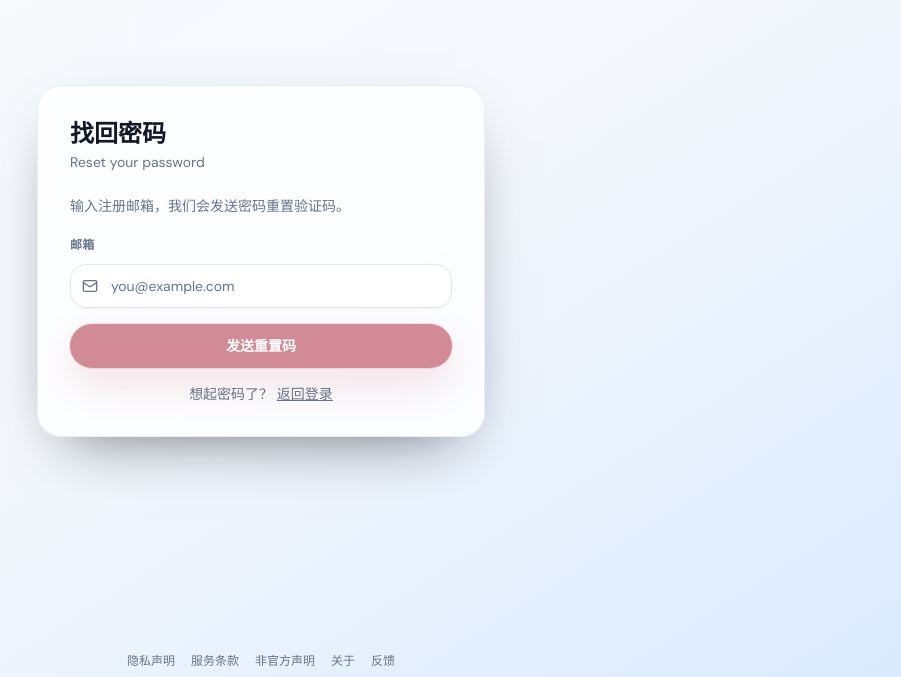
ForgotPasswordPage › requests a reset code then resets the password end to end
Type "user@example.com" into the field with placeholder "you@example.com" at (261, 286), box [70, 264, 452, 308]
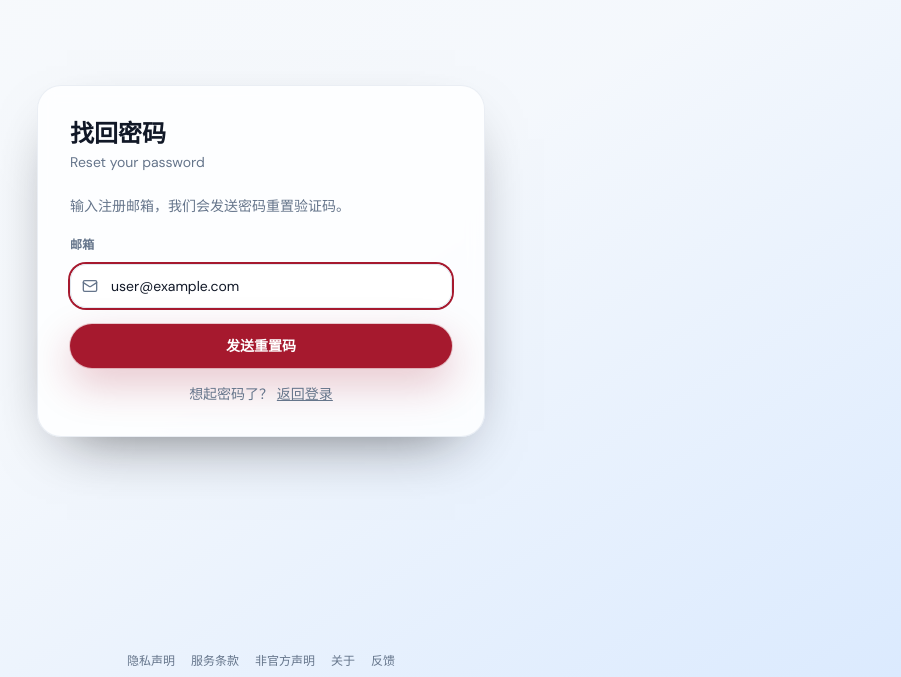
Click the button "发送重置码" at (261, 346), box [70, 324, 452, 368]
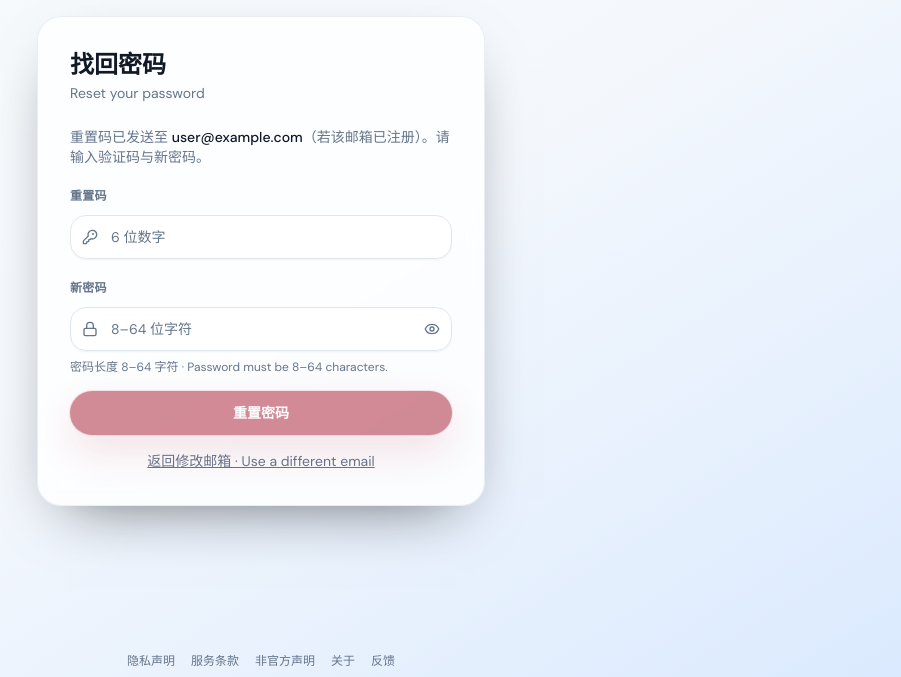
Check: the field with placeholder "6 位数字" is shown
Type "654321" into the field with placeholder "6 位数字" at (261, 237), box [70, 215, 452, 259]
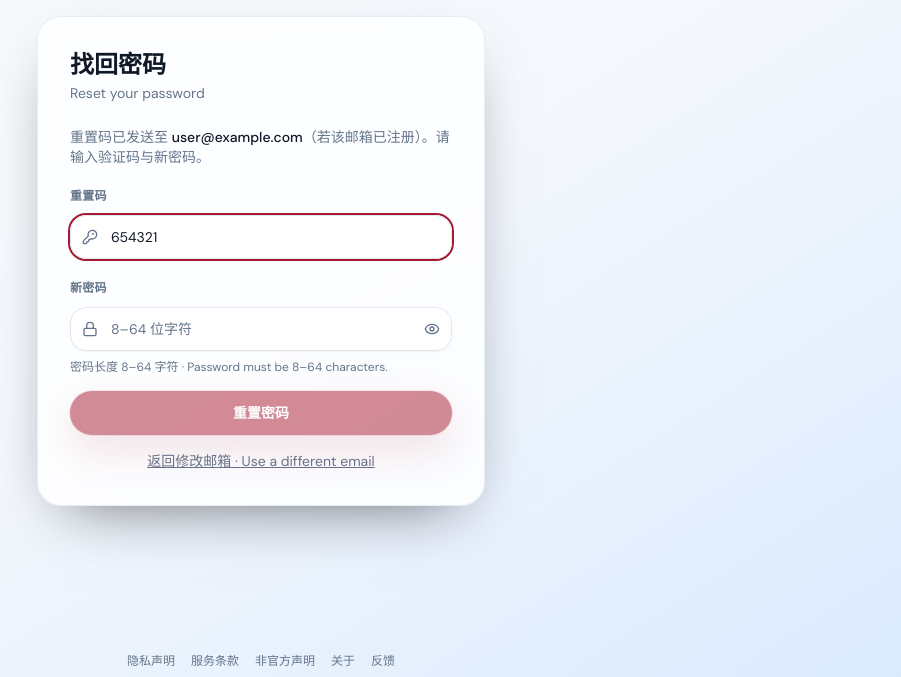
Type "newpassword8" into the password field with placeholder "8–64 位字符" at (261, 329), box [70, 307, 452, 351]
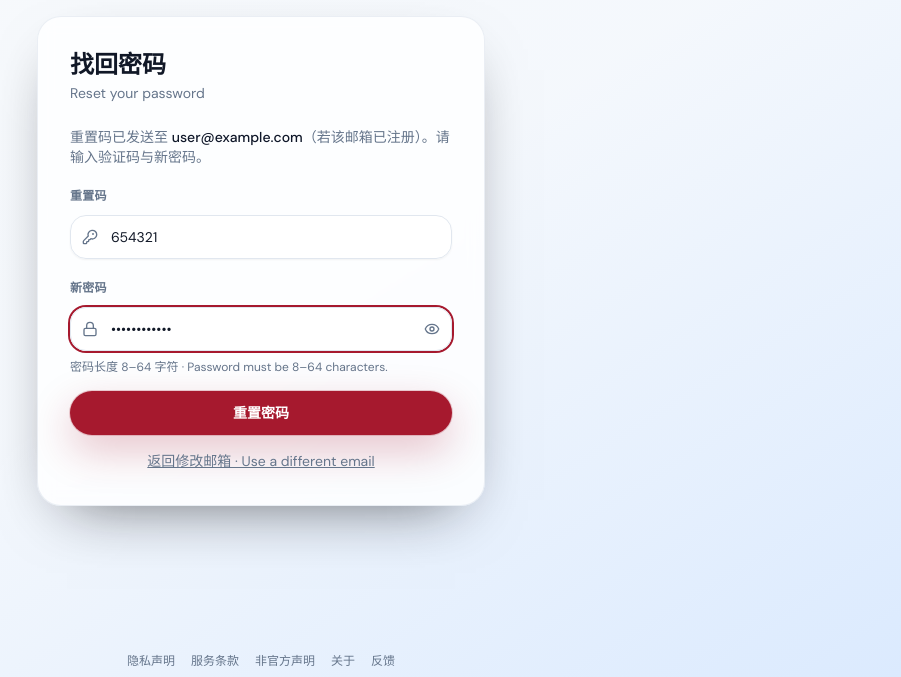
Click the button "重置密码" at (261, 413), box [70, 391, 452, 435]
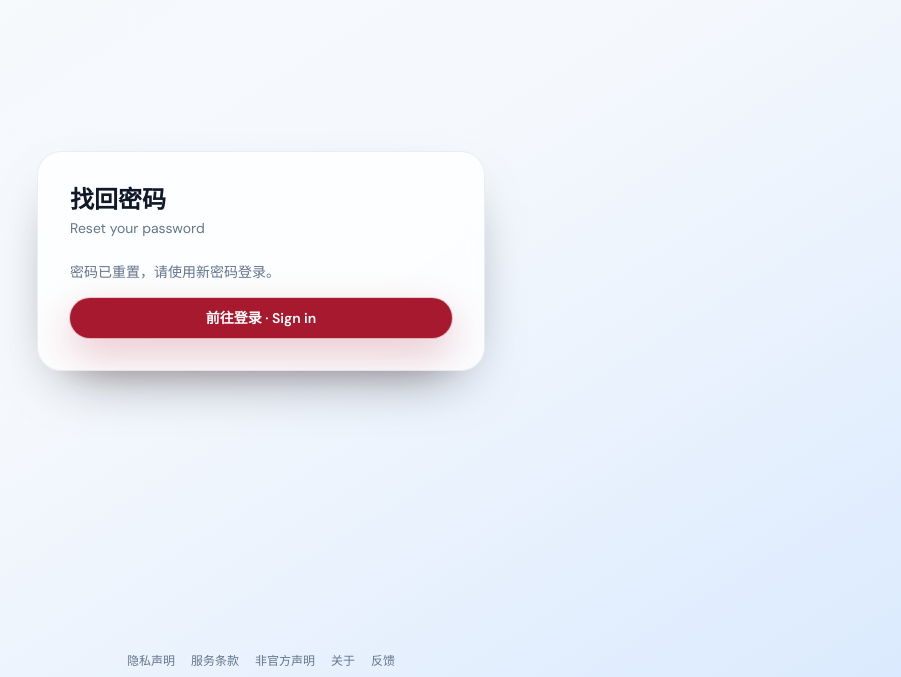
Check: the button "前往登录 · Sign in" is shown, box [70, 298, 452, 338]
